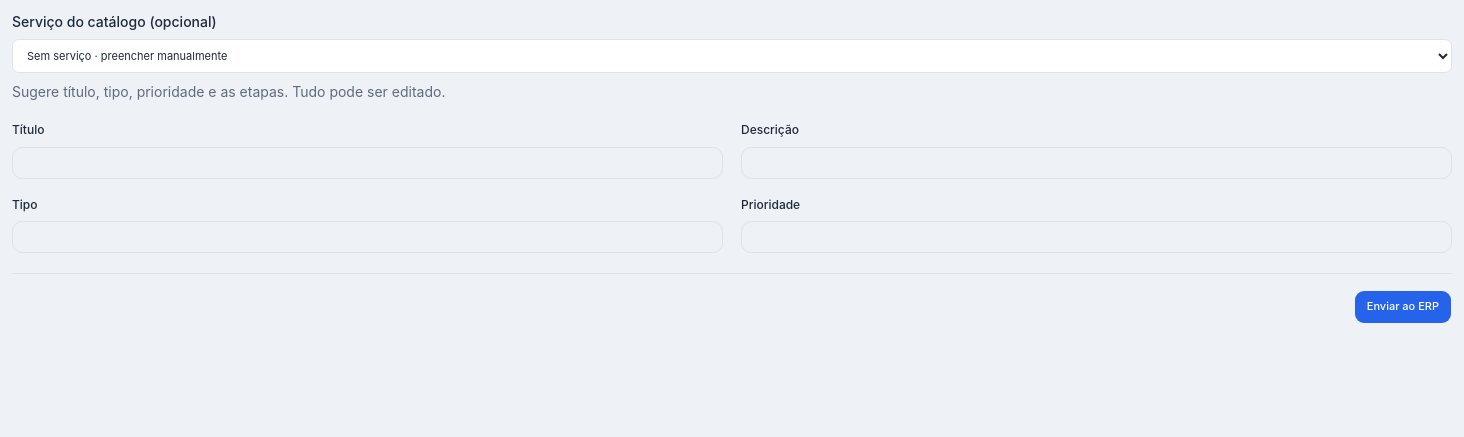
Test: OrderContractForm (abertura com catálogo) › trocar de serviço substitui só as sugestões anteriores
The image size is (1464, 437).
Select "Troca de senha Wi-Fi" in the dropdown labelled "Serviço do catálogo (opcional)". click: (732, 56)
box: [12,39,1452,73]
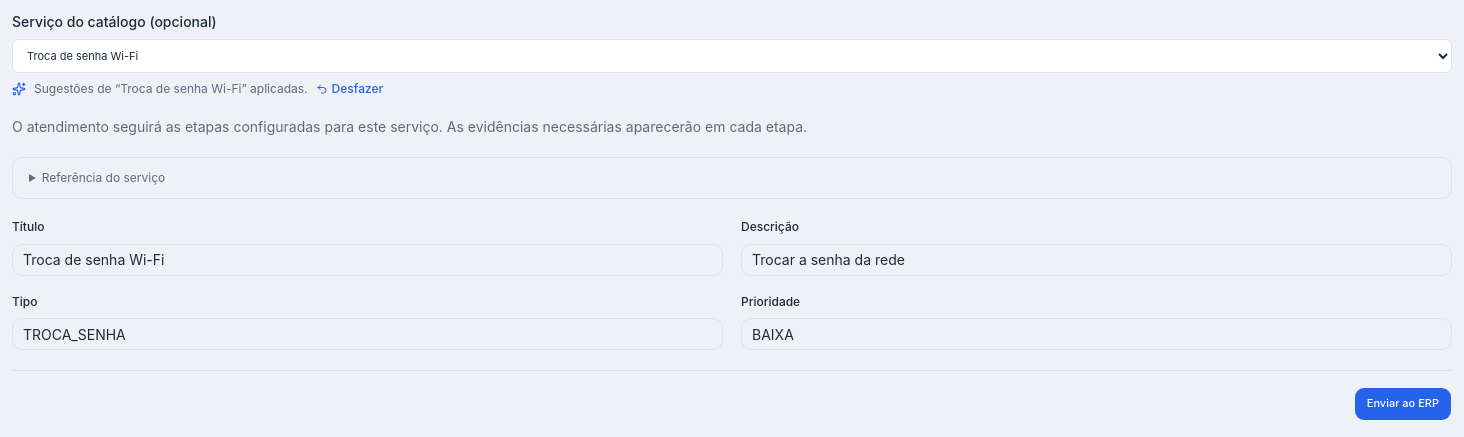
Replace the text in the field labelled "Descrição" with "Senha anotada pelo cliente". click: (1096, 260)
box: [741,244,1452,276]
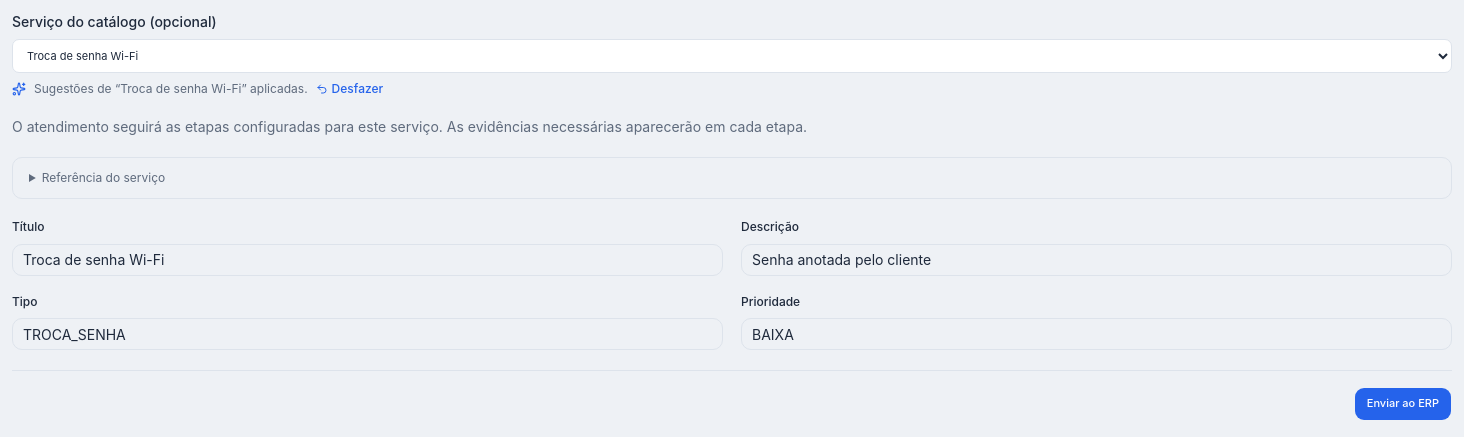
Select "Rompimento de fibra" in the dropdown labelled "Serviço do catálogo (opcional)". click: (732, 56)
box: [12,39,1452,73]
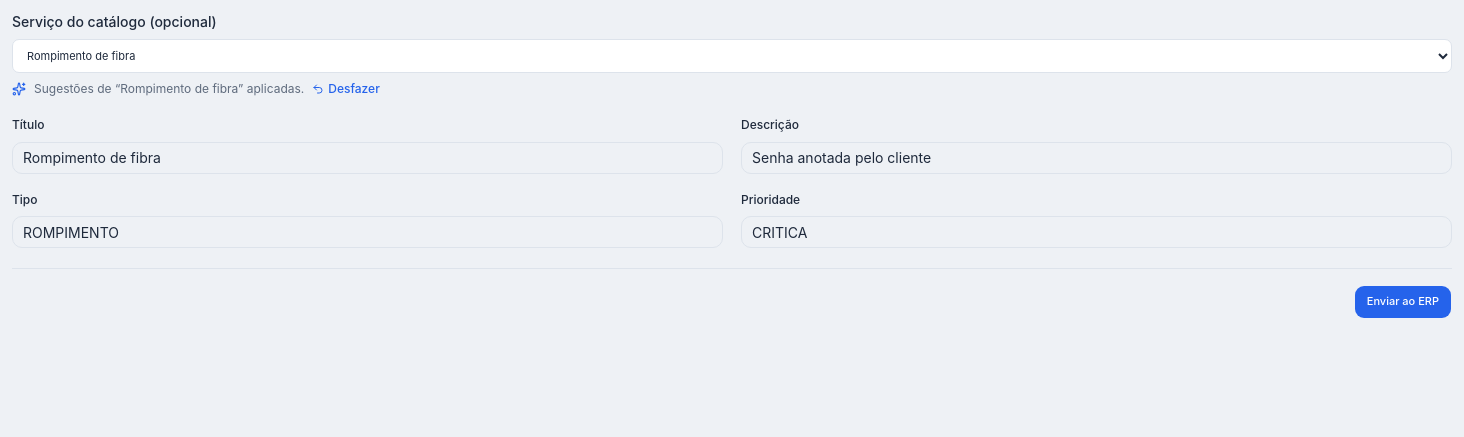
Expected: the field labelled "Título" holds "Rompimento de fibra", [12,142,723,174]
Expected: the field labelled "Prioridade" holds "CRITICA", [741,216,1452,248]
Expected: the field labelled "Descrição" holds "Senha anotada pelo cliente", [741,142,1452,174]
